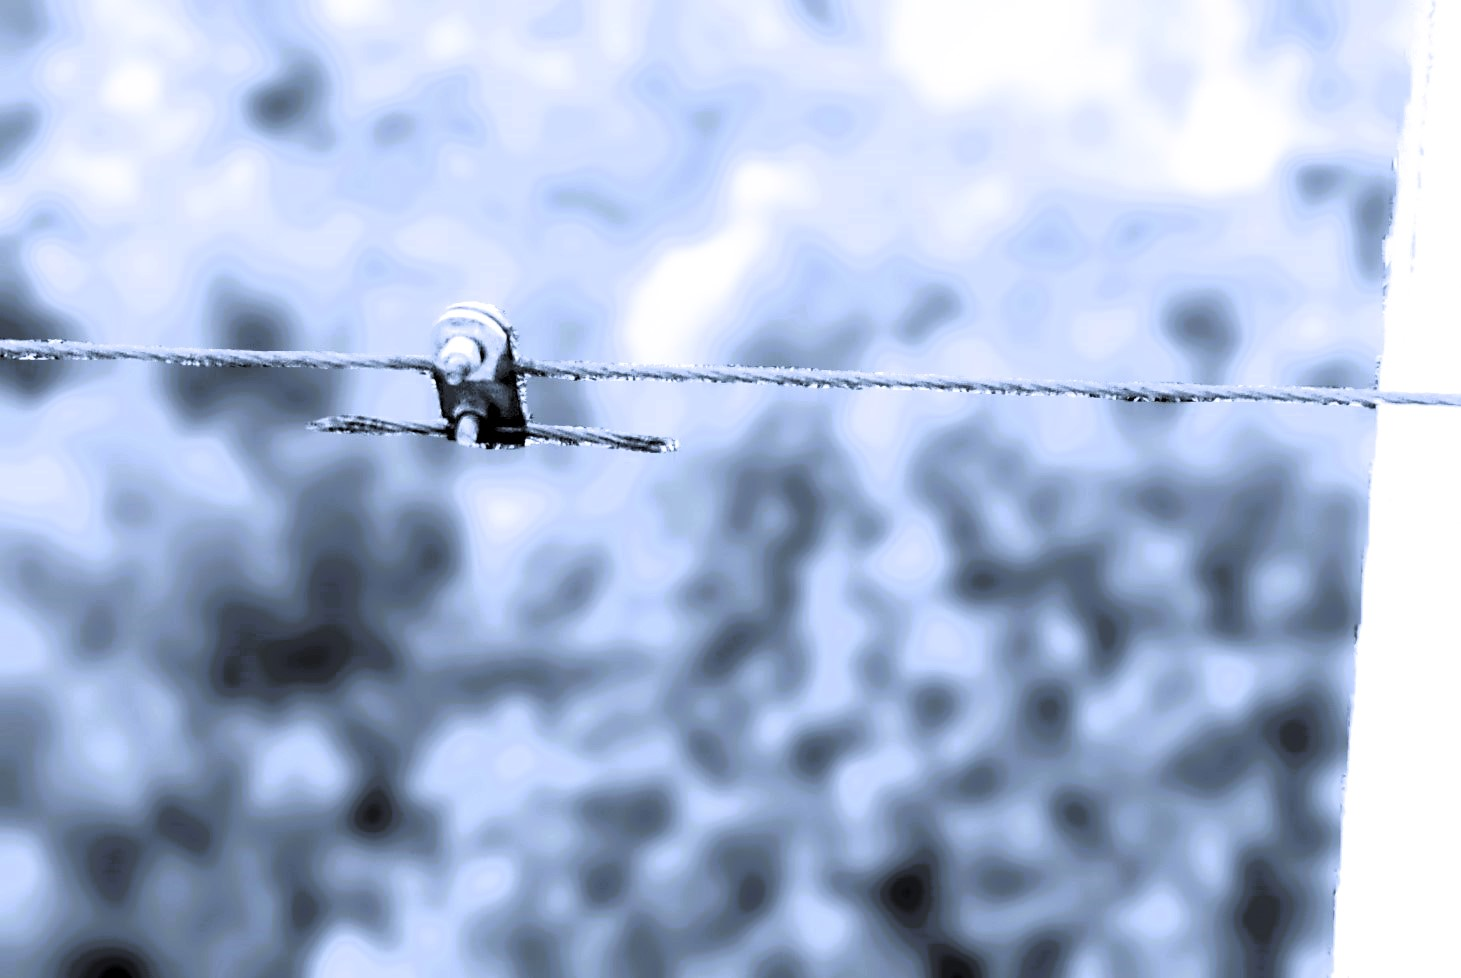Damage of shockproof hammer: (300, 285, 693, 475)
